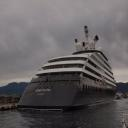cruises: (17, 26, 119, 114)
